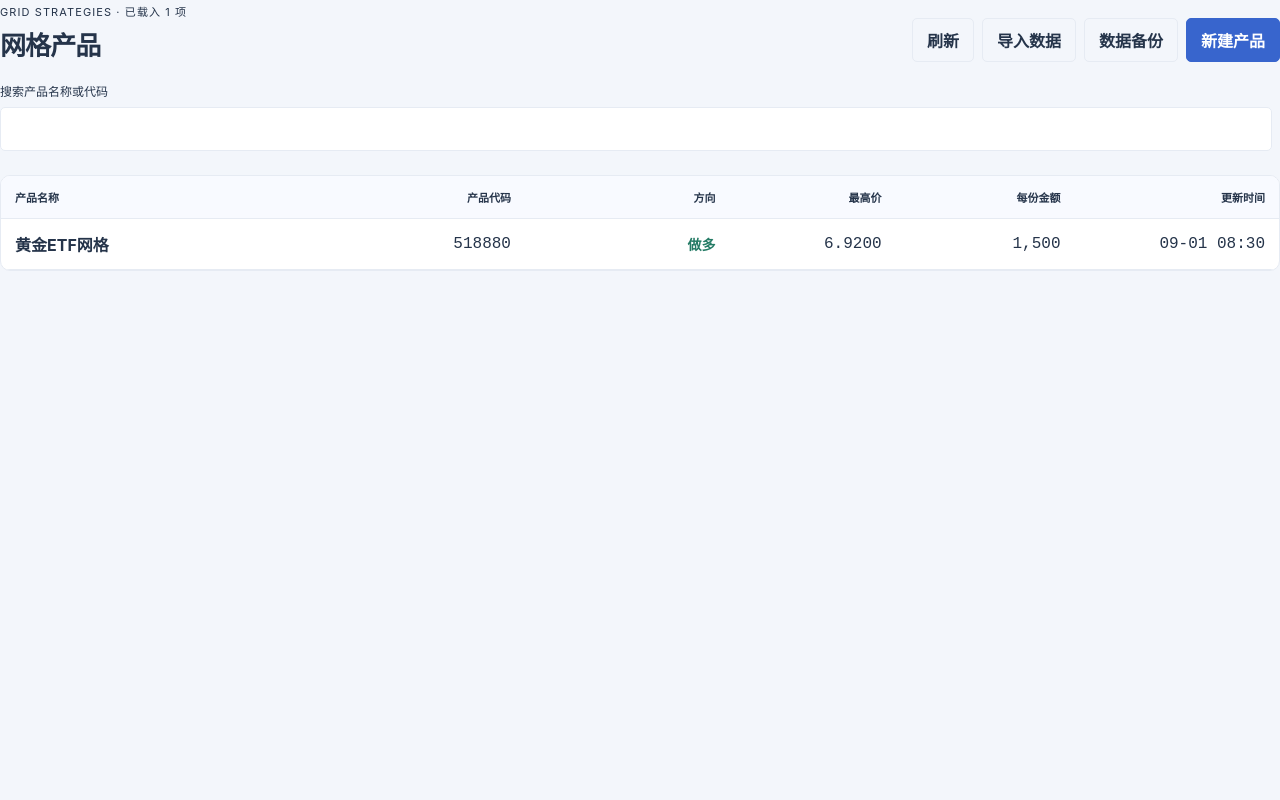
Test case: links each product name to its stable detail route and offers all account actions from the heading
This screenshot has width=1280, height=800.
Click the button "数据备份".
click(1131, 40)  # box [1084,18,1178,62]
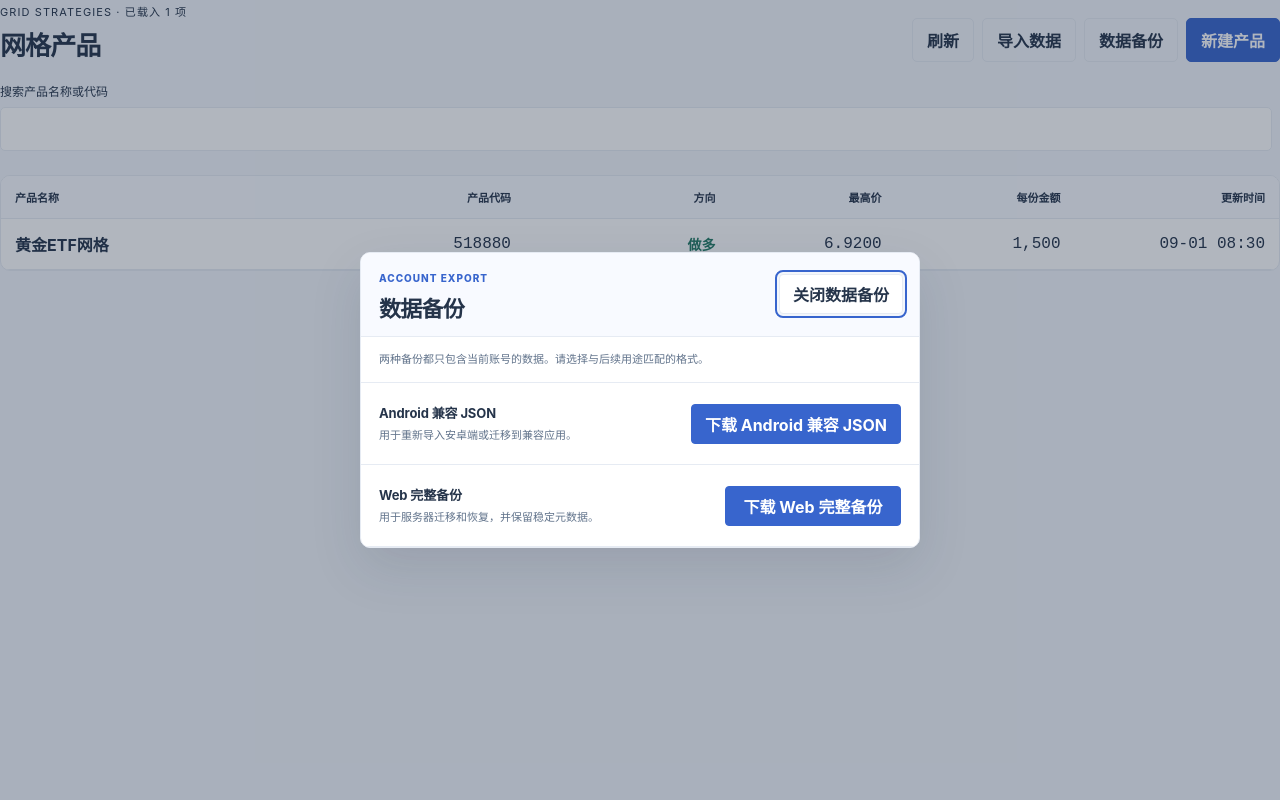
Expected: the dialog "数据备份" is shown, [360,252,920,548]
